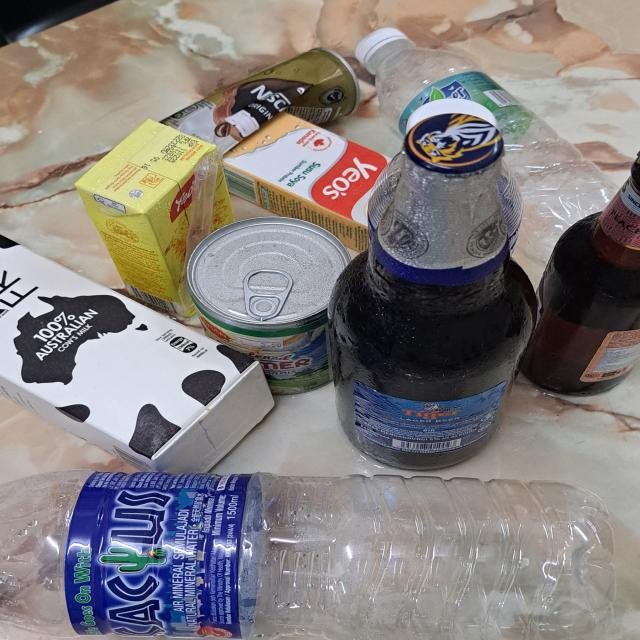can: (187, 218, 347, 393), (148, 49, 361, 154)
drink carton: (4, 229, 277, 475), (78, 118, 243, 322), (228, 116, 440, 252)
glass bottle: (335, 118, 539, 484), (525, 126, 640, 398)
plastic bottle: (0, 469, 617, 640), (376, 51, 608, 250)
plastic bottle cap: (353, 30, 407, 64)
pop tab: (246, 262, 291, 324)
